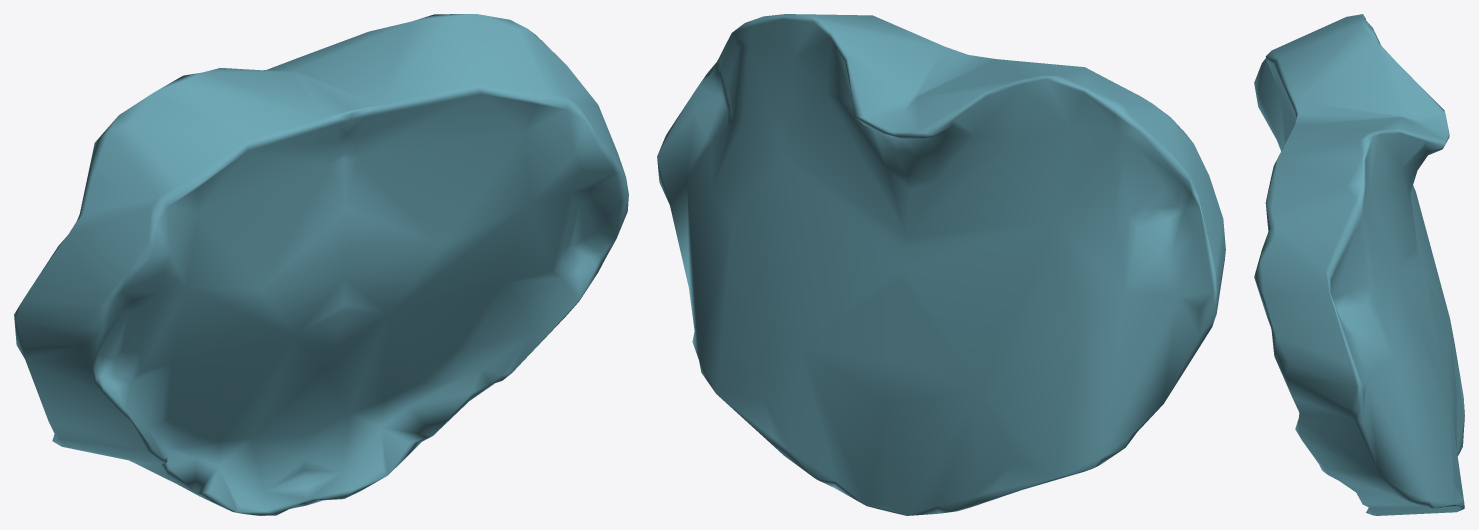
3 renders of one model, left to right at view 1: azimuth 30°, elevation 25°; view 2: azimuth 150°, elevation 25°; view 3: azimuth 270°, elevation 25°, orthographic. The views are drawn at different scales.
Visible parts, largest first — view 1: 颈2—颈3椎间盘; view 2: 颈2—颈3椎间盘; view 3: 颈2—颈3椎间盘.
Boxes of the visible parts, x1,y1,x2,y2 form: 颈2—颈3椎间盘: (14, 14, 628, 515); 颈2—颈3椎间盘: (657, 14, 1225, 515); 颈2—颈3椎间盘: (1254, 14, 1464, 515).
Size of the model in its own units: 0.0353 by 0.026 by 0.0119.
